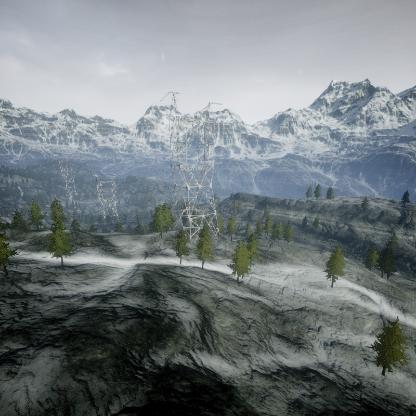tower: (158, 89, 222, 244), (91, 172, 122, 224)
